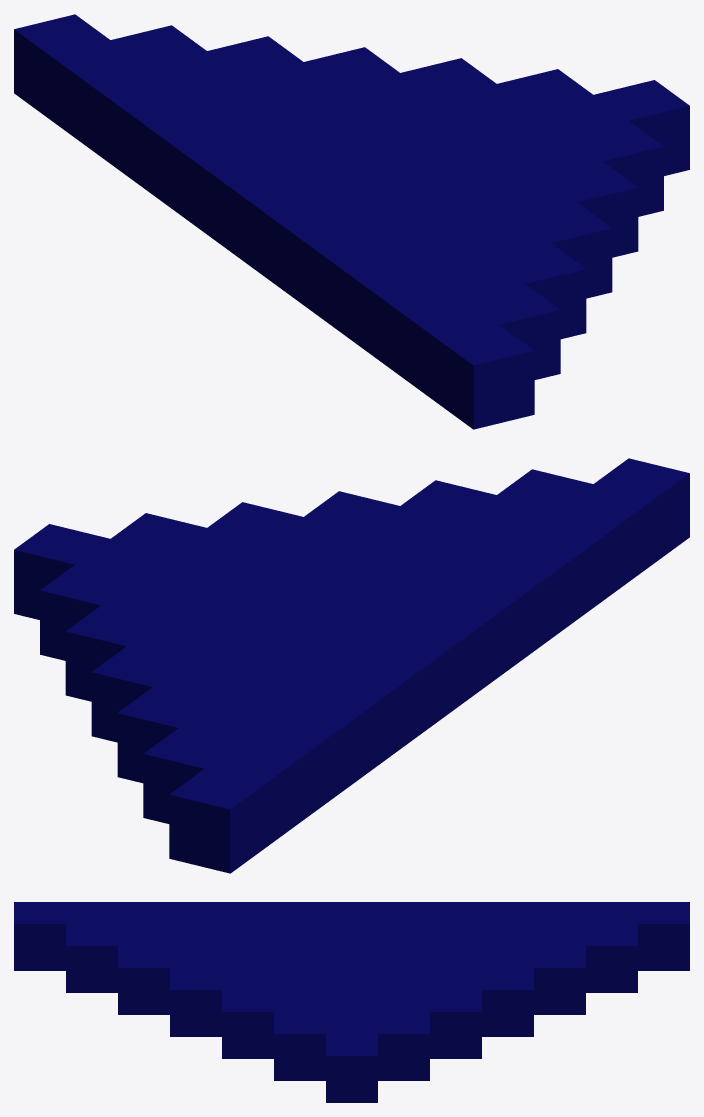
Rendered from arrow.glb.
The picture shows the model from 3 angles, top to bottom: view 1: azimuth 30°, elevation 25°; view 2: azimuth 150°, elevation 25°; view 3: azimuth 270°, elevation 25°; orthographic projection. The views are drawn at different scales.
Visible parts, largest first — view 1: Untitled; view 2: Untitled; view 3: Untitled.
Part boxes in pixels (bbox=[...]): Untitled: bbox=[14, 14, 689, 429]; Untitled: bbox=[14, 458, 689, 873]; Untitled: bbox=[14, 902, 689, 1102].
Bounding box in the file's own units: 0.7 × 0.1 × 1.3.
Materials: 1 (1 with a texture image).
